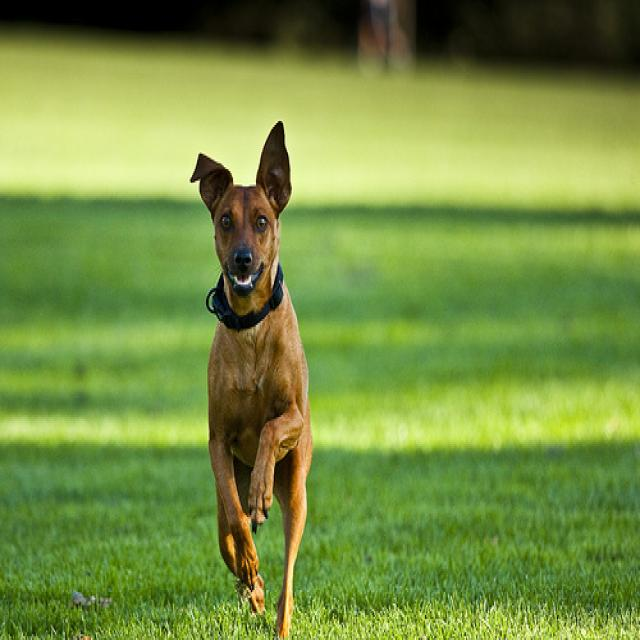dog-miniature_pinscher: (184, 111, 317, 636)
